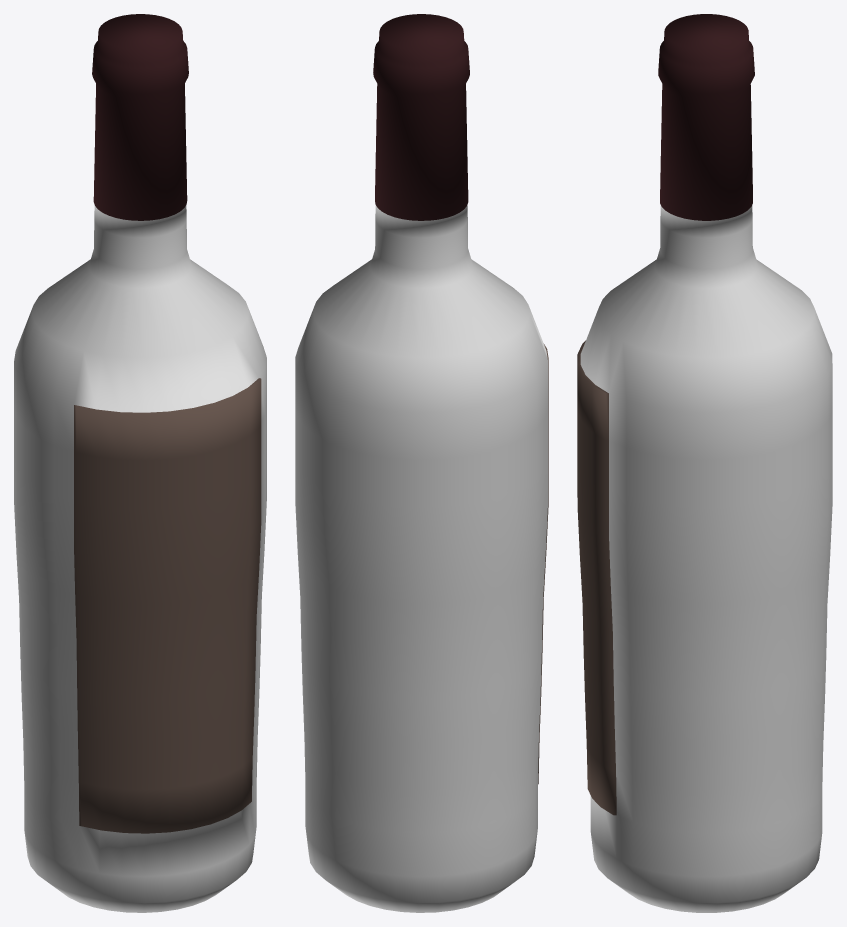
The model's file is Bar01_Botella_Amargo_Obrero.fbx.
The picture shows the model from 3 angles, left to right: view 1: azimuth 30°, elevation 25°; view 2: azimuth 150°, elevation 25°; view 3: azimuth 270°, elevation 25°; orthographic projection.
Visible parts, largest first — view 1: Cylinder.015; view 2: Cylinder.015; view 3: Cylinder.015.
Part boxes in pixels (box(x1,y1,x2,y2)): Cylinder.015: box(14, 14, 266, 912); Cylinder.015: box(295, 14, 548, 912); Cylinder.015: box(577, 14, 832, 912).
Bounding box in the file's own units: 10.23 × 37.83 × 10.36.
